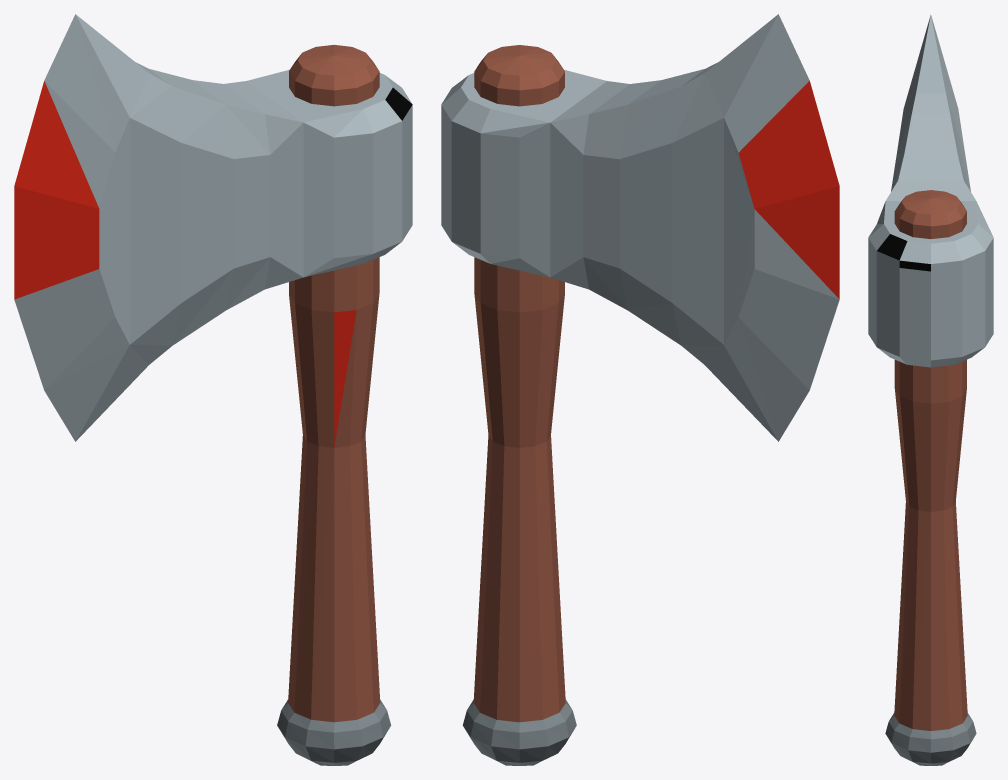
File: axe.gltf
3 views of the same model, side by side, from view 1: azimuth 30°, elevation 25°; view 2: azimuth 150°, elevation 25°; view 3: azimuth 270°, elevation 25° (orthographic). The views are drawn at different scales.
Visible parts, largest first — view 1: axe_uncommon; view 2: axe_uncommon; view 3: axe_uncommon.
Part boxes in pixels (x1,y1,x2,y2): axe_uncommon: [14, 14, 412, 765]; axe_uncommon: [441, 14, 839, 765]; axe_uncommon: [868, 14, 993, 765].
Size of the model in its own units: 0.9613 by 1.91 by 0.3371.
